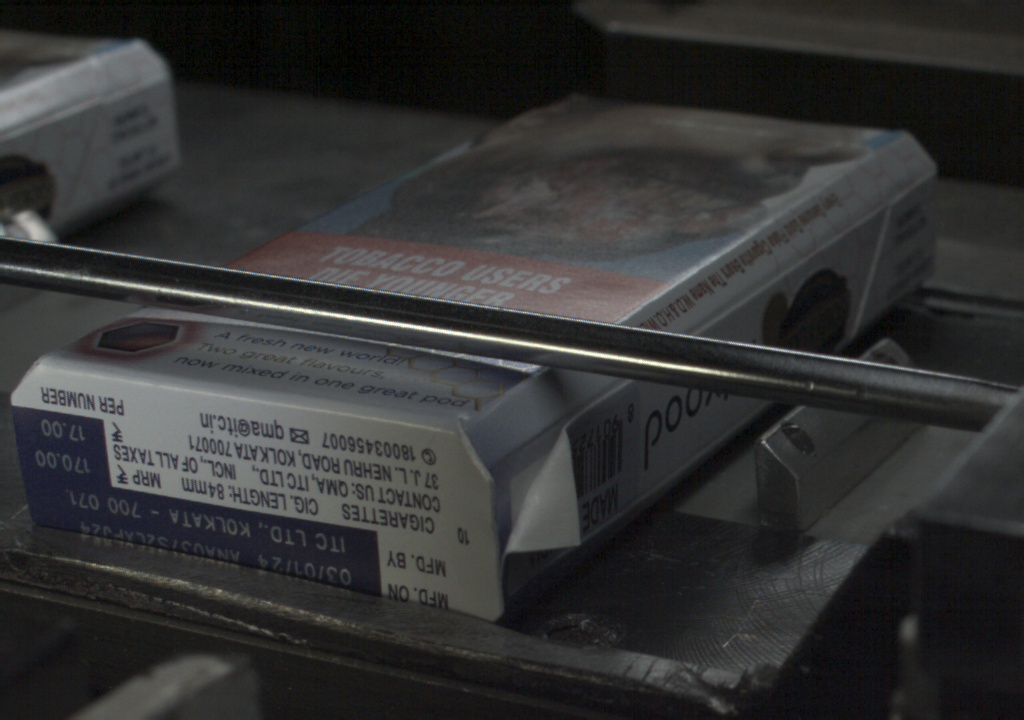g_bottom: (8, 355, 488, 624)
g_label: (19, 485, 381, 596)
g_lmiter: (692, 266, 793, 334), (796, 198, 887, 266)
g_miter: (887, 160, 938, 199)
ng_lmiter: (498, 412, 587, 555)
price: (14, 416, 110, 485)
